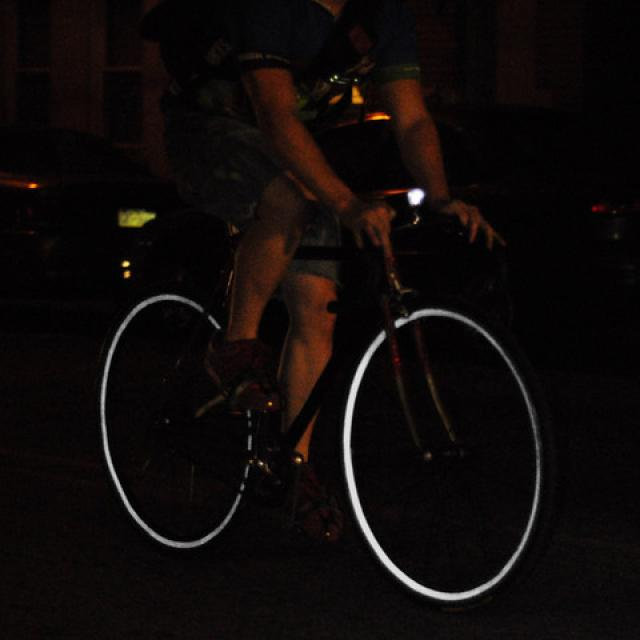Bicycle: (134, 202, 582, 610)
People: (185, 0, 429, 497)
